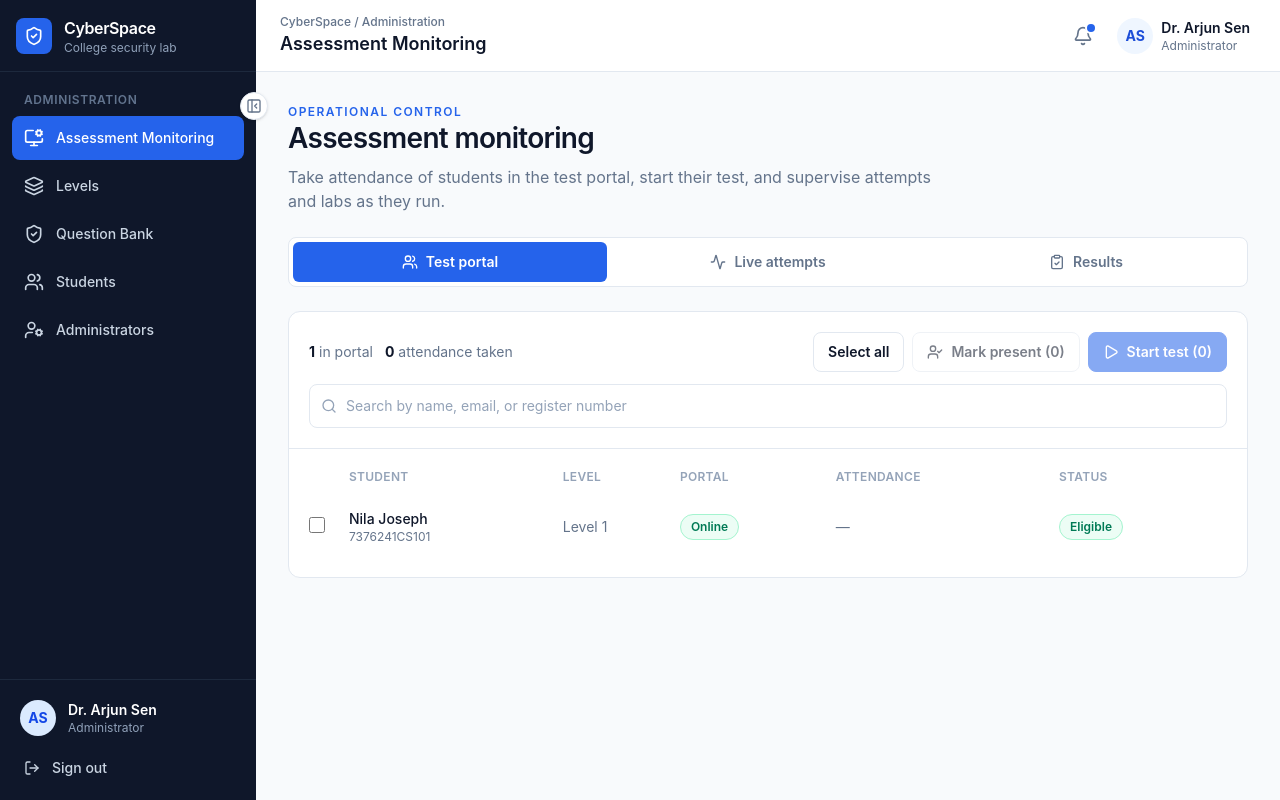
Test: administrator monitoring › takes attendance for selected students in the portal
This screenshot has width=1280, height=800.
Click the checkbox named "Select Nila Joseph" at x=317, y=525, box [309,517,325,533]
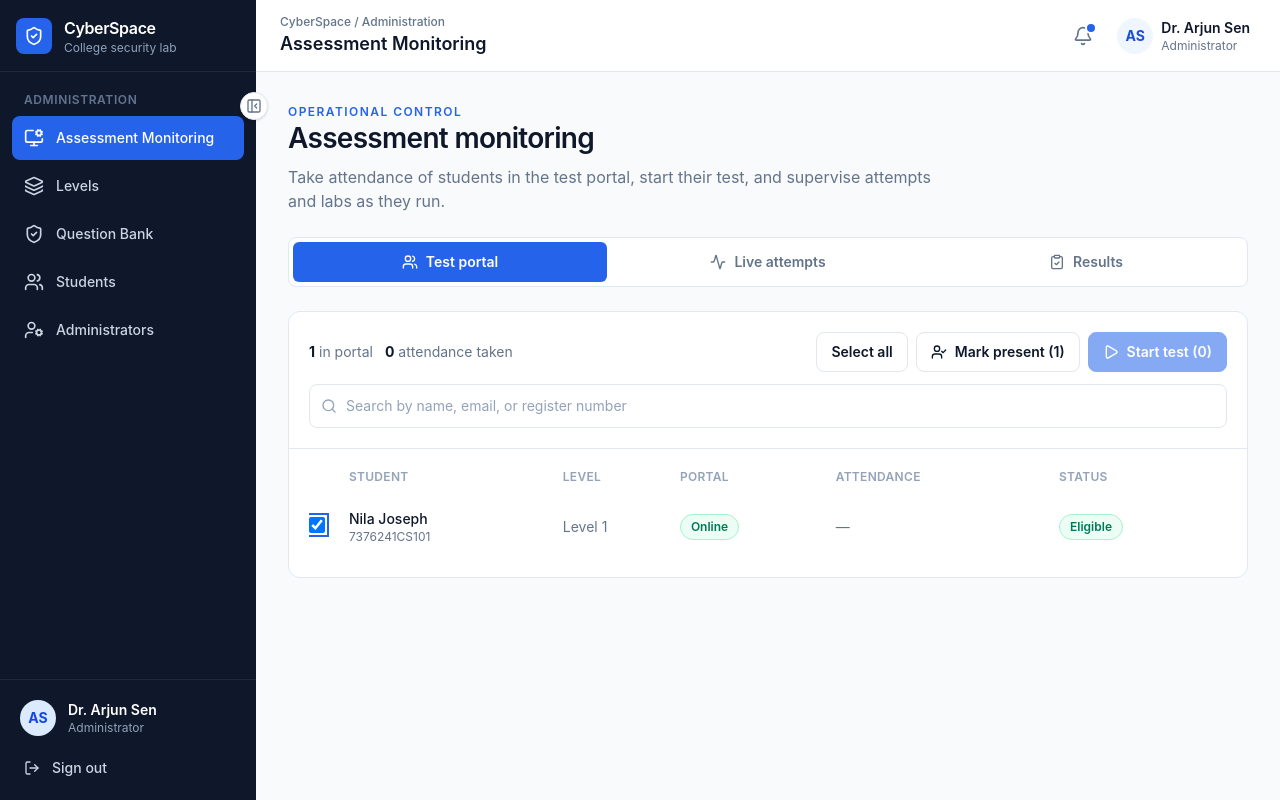
Click the button "Mark present (1)" at x=998, y=352, box [916,332,1080,372]
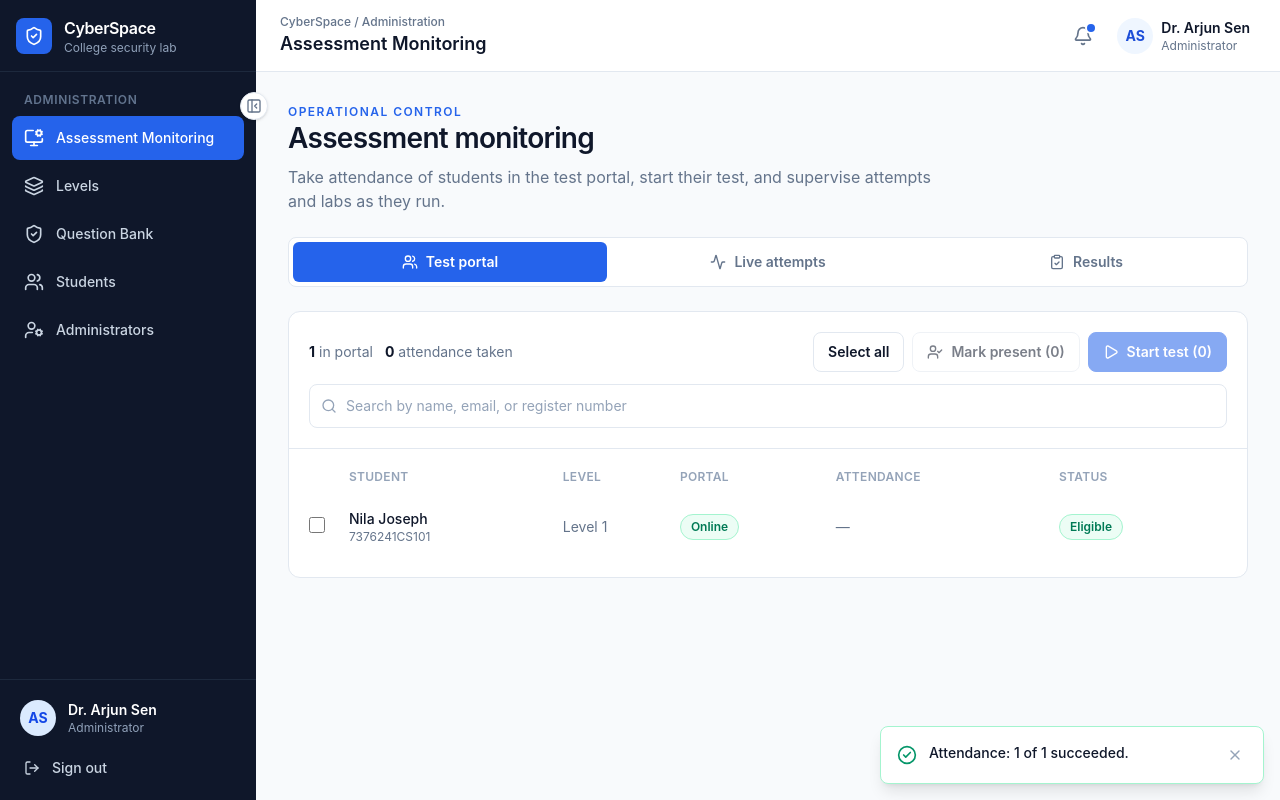
Expected: the text "Attendance: 1 of 1 succeeded." is shown, [929,744,1129,761]
